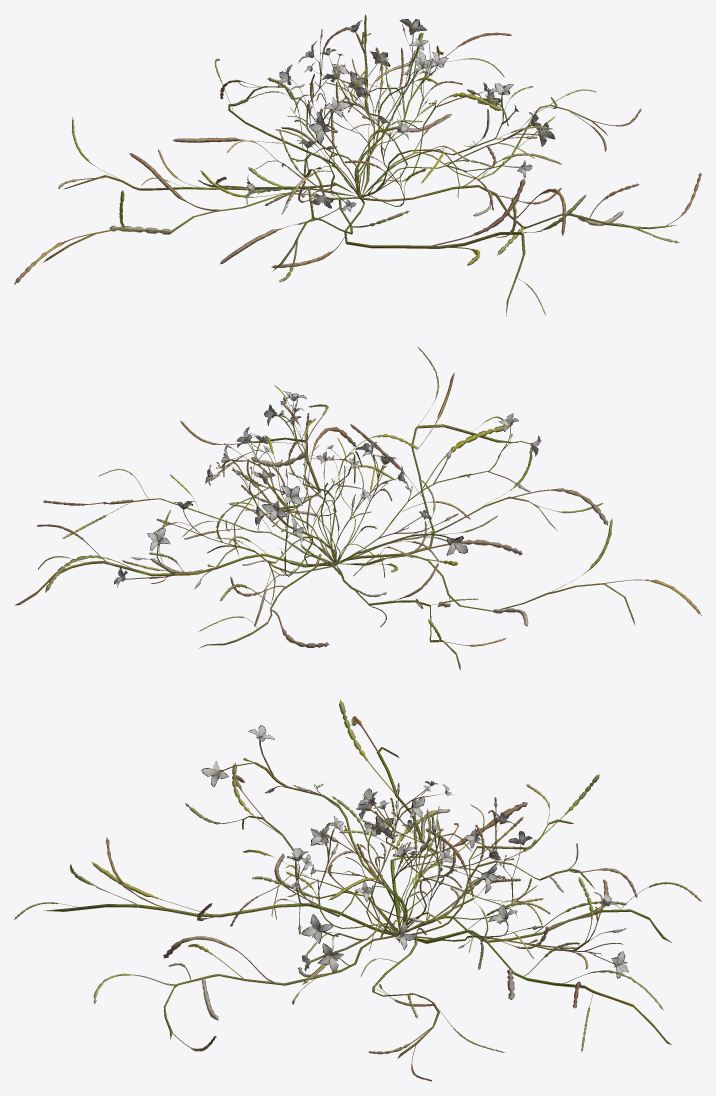
File: flower_heliophila.glb
3 views of the same model, one above another, from view 1: azimuth 30°, elevation 25°; view 2: azimuth 150°, elevation 25°; view 3: azimuth 270°, elevation 25° (orthographic). The views are drawn at different scales.
Parts seen in each view (by area): view 1: flower_heliophila_large; view 2: flower_heliophila_large; view 3: flower_heliophila_large.
Part boxes in pixels (x1,y1,x2,y2): flower_heliophila_large: (14,14,701,316); flower_heliophila_large: (14,346,701,669); flower_heliophila_large: (14,699,701,1081).
Bounding box in the file's own units: 1.66 × 0.399 × 1.42.
Materials: 1 (1 with a texture image).
